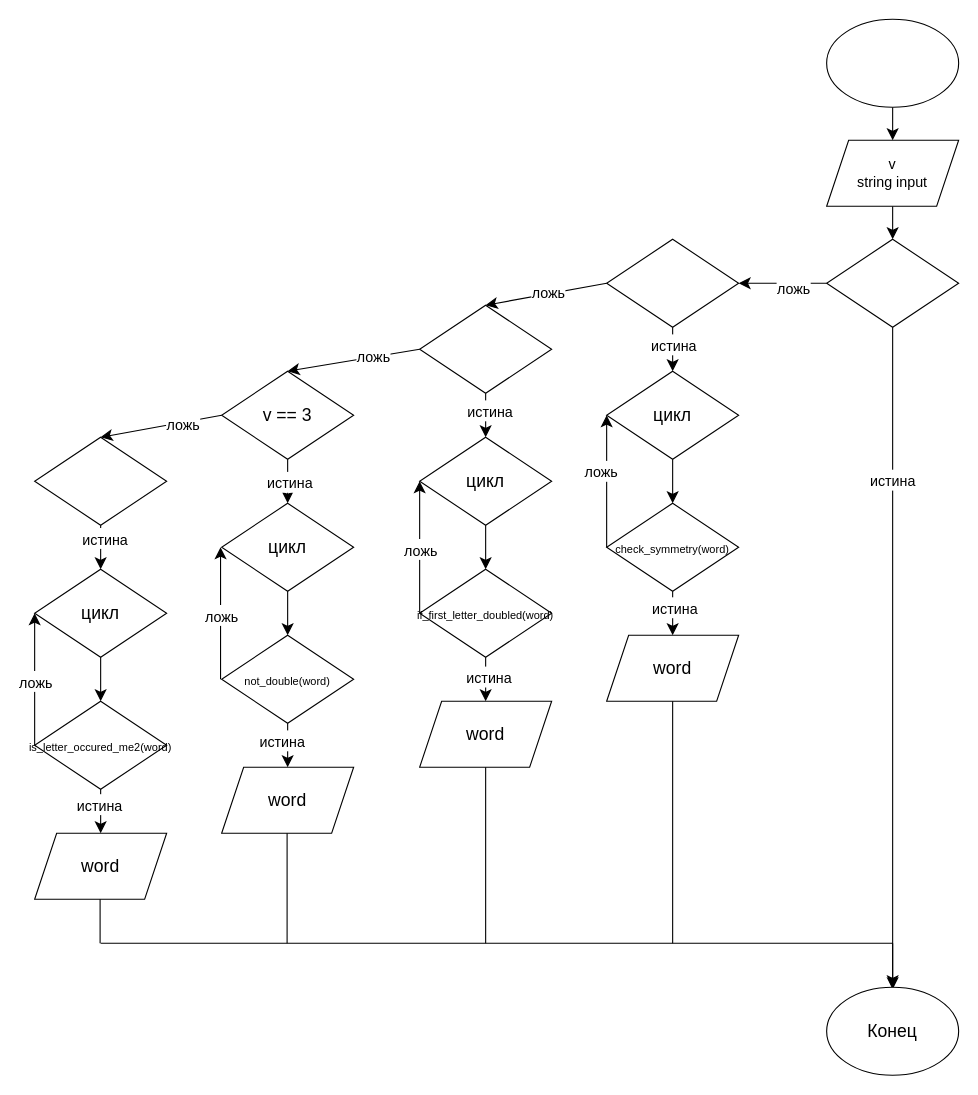
This 978x1095 diagram has some shape labels left out. The centre of each missing label's shape, as x and y in pixels:
"input.size() == 0" belongs at (892,282).
"v == 1" belongs at (672,282).
"v == 2" belongs at (485,348).
"v == 4" belongs at (100,480).
"Начало" belongs at (892,62).
